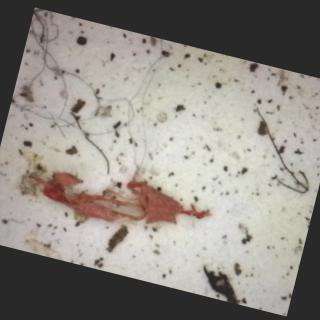Microplastic: (0, 5, 177, 182)
